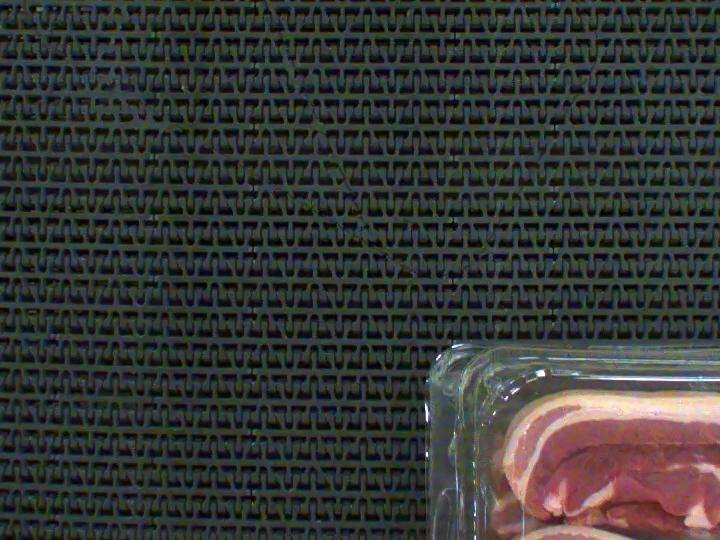unsealed: (438, 363, 720, 540)
